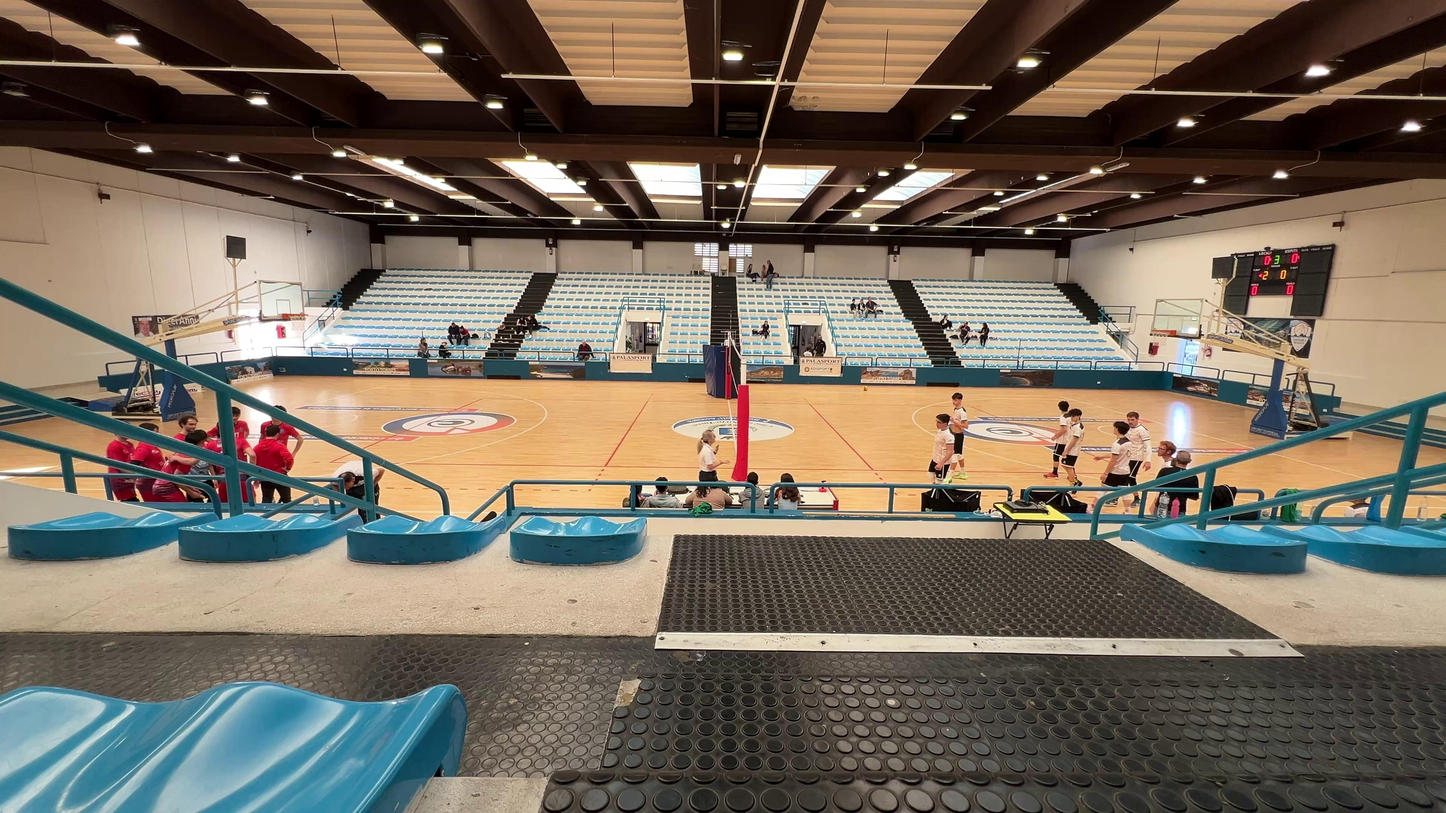volleyball court: (331, 397, 1133, 476)
